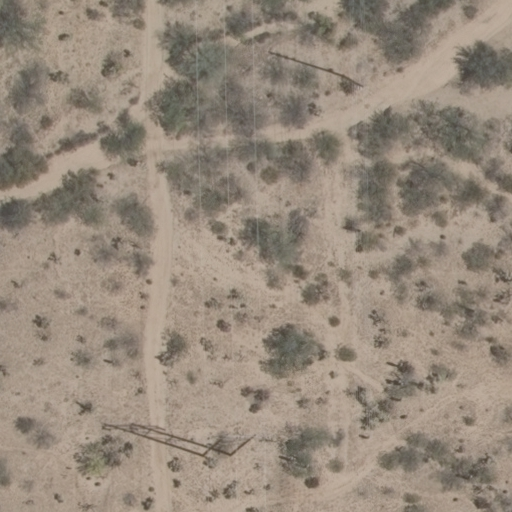DT: (196, 424, 261, 462), (315, 65, 370, 89)
